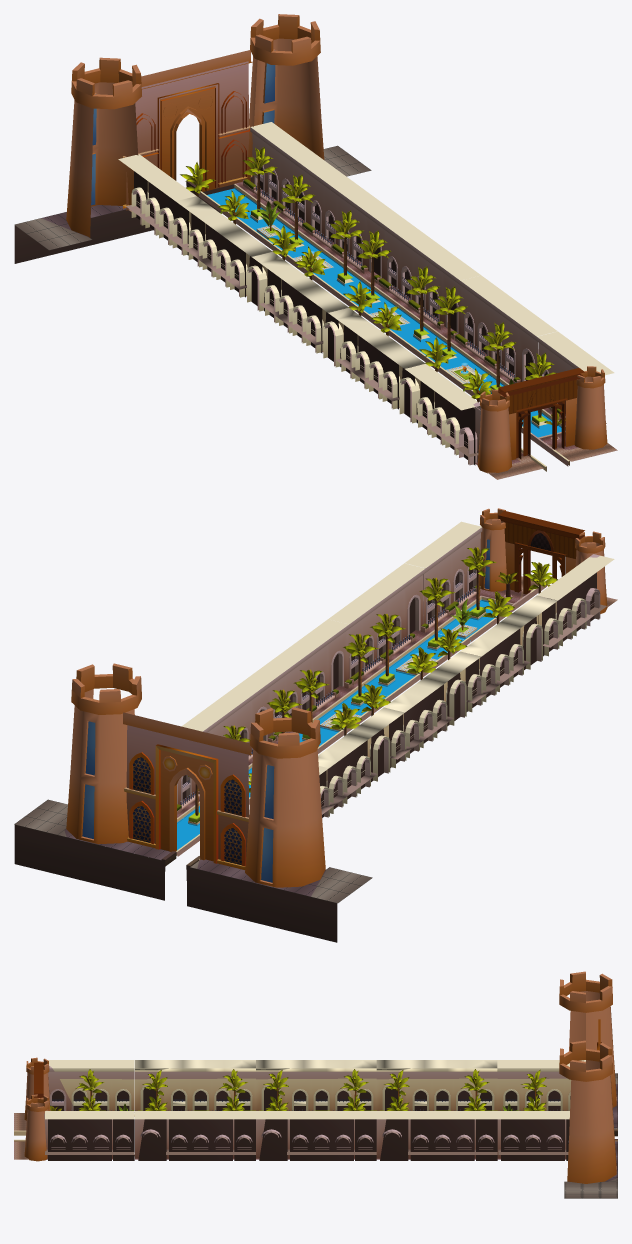
The model's file is Castle.fbx.
3 views of the same model, one above another, from view 1: azimuth 30°, elevation 25°; view 2: azimuth 150°, elevation 25°; view 3: azimuth 270°, elevation 25° (orthographic). The views are drawn at different scales.
Visible parts, largest first — view 1: 1.104_Dubai_epic_start, 1.104_Dubai_epic_end, 1.104_Dubai_epic_mid.001, 1.104_Dubai_epic_mid, 1.104_Dubai_epic_mid.002; view 2: 1.104_Dubai_epic_start, 1.104_Dubai_epic_end, 1.104_Dubai_epic_mid.002, 1.104_Dubai_epic_mid.001, 1.104_Dubai_epic_mid; view 3: 1.104_Dubai_epic_start, 1.104_Dubai_epic_mid, 1.104_Dubai_epic_mid.001, 1.104_Dubai_epic_mid.002, 1.104_Dubai_epic_end.
Part boxes in pixels (left/top/right/bottom): 1.104_Dubai_epic_start: left=14, top=14, right=371, bottom=263; 1.104_Dubai_epic_end: left=405, top=331, right=617, bottom=479; 1.104_Dubai_epic_mid.001: left=252, top=219, right=480, bottom=367; 1.104_Dubai_epic_mid: left=176, top=164, right=404, bottom=311; 1.104_Dubai_epic_mid.002: left=328, top=275, right=557, bottom=423; 1.104_Dubai_epic_start: left=14, top=663, right=372, bottom=942; 1.104_Dubai_epic_end: left=405, top=508, right=617, bottom=656; 1.104_Dubai_epic_mid.002: left=328, top=563, right=557, bottom=712; 1.104_Dubai_epic_mid.001: left=252, top=619, right=480, bottom=768; 1.104_Dubai_epic_mid: left=181, top=675, right=404, bottom=817; 1.104_Dubai_epic_start: left=497, top=971, right=617, bottom=1198; 1.104_Dubai_epic_mid: left=376, top=1060, right=497, bottom=1160; 1.104_Dubai_epic_mid.001: left=256, top=1060, right=376, bottom=1160; 1.104_Dubai_epic_mid.002: left=135, top=1060, right=255, bottom=1160; 1.104_Dubai_epic_end: left=14, top=1057, right=135, bottom=1161.
Size of the model in its own units: 28659 by 16003 by 58499.
1 material, 1 textured.
